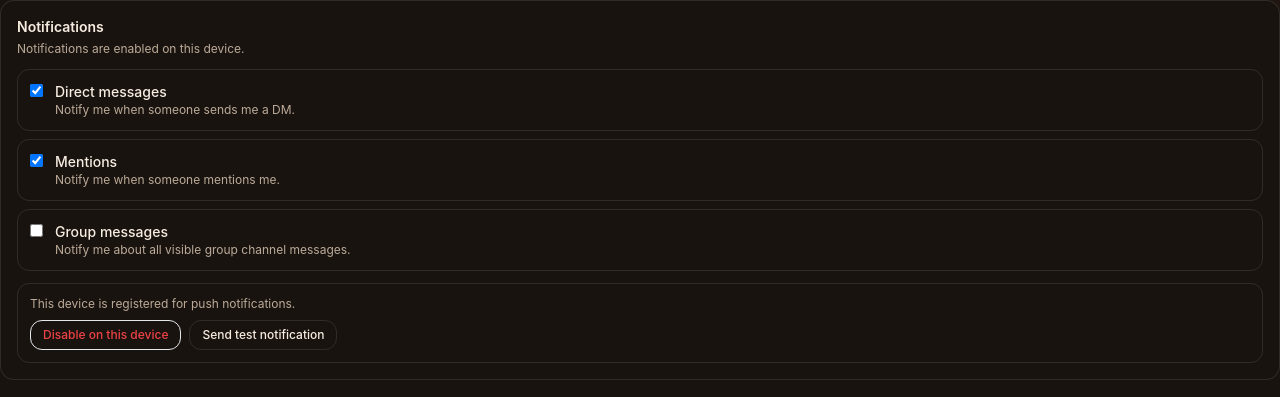
Scenario: NotificationSettingsPanel › disables push on this device: unsubscribes, deletes the endpoint, flips the toggle
What coordinates should you click on to do the following:
click the button with test id "disable-device-push"
I would click on:
 (106, 335)
Its box is [30,320,182,350].
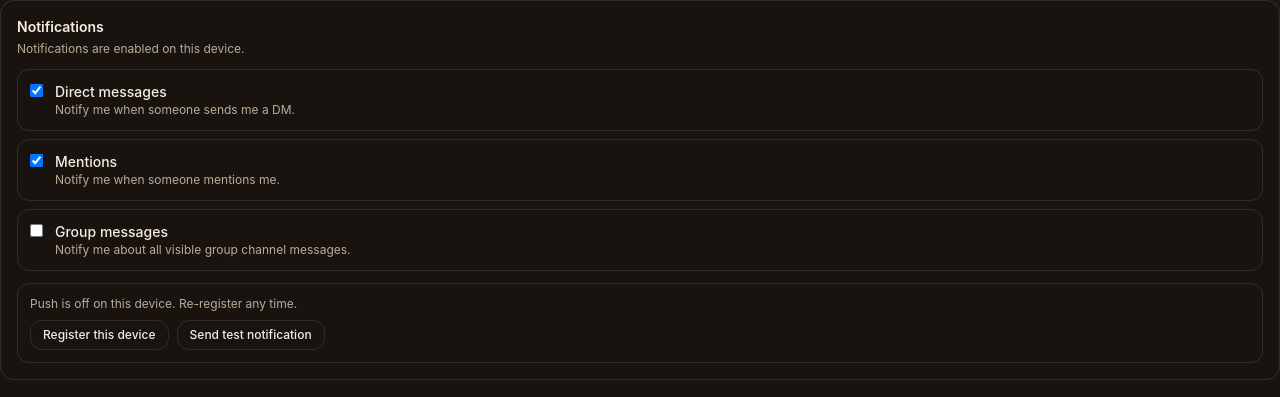
Check: the button with test id "register-device-push" reads "Register this device", box [30,320,169,350]
Check: the text with test id "notification-subscription-status" shows "Push is off on this device.", box [30,296,297,311]
